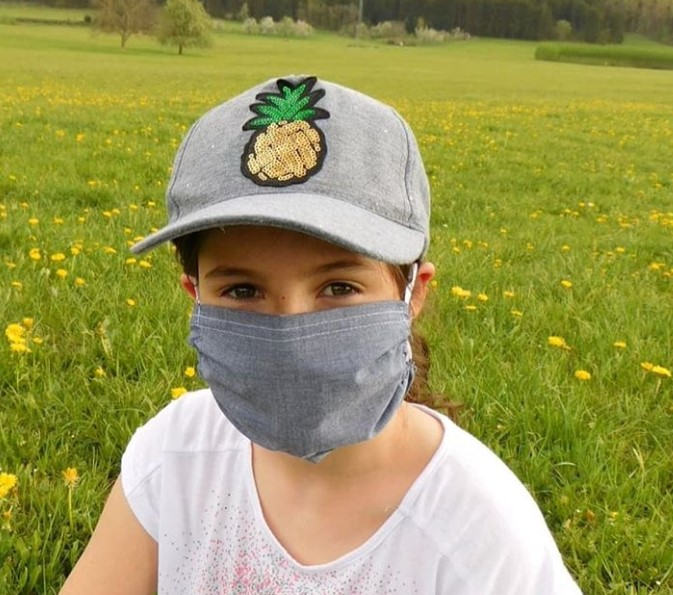face_with_mask: (133, 71, 435, 467)
